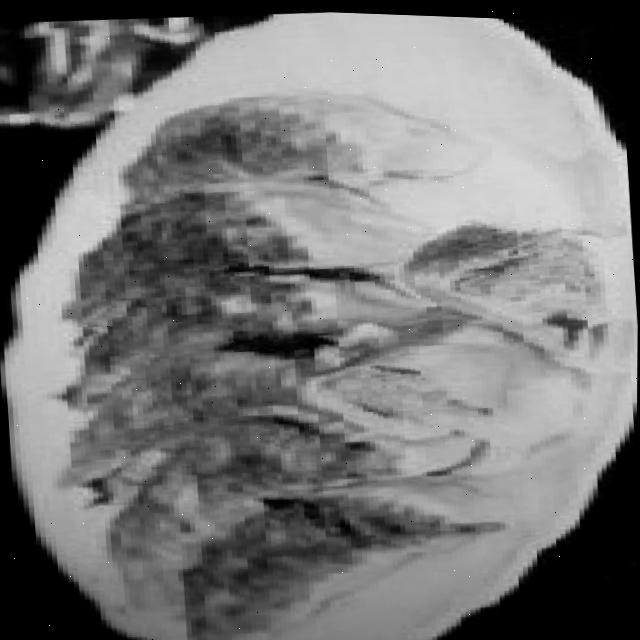带馅早点: (9, 53, 636, 640)
